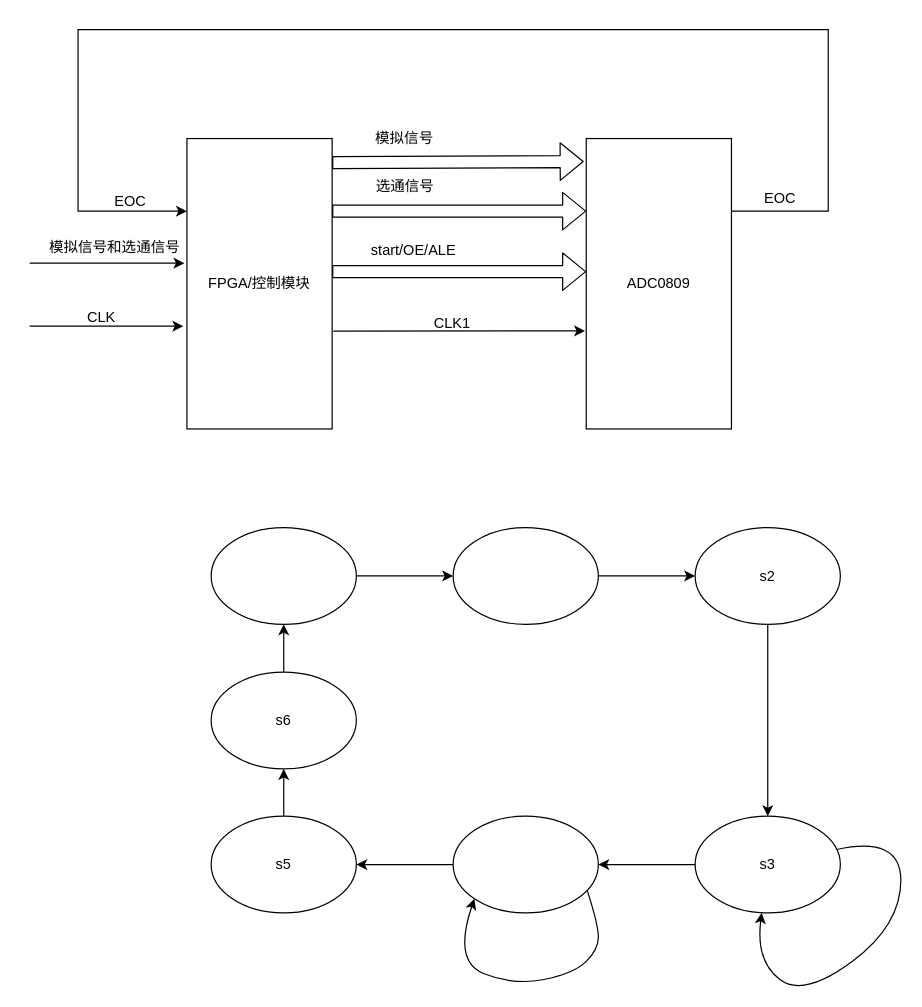
Some shapes in this 922 by 1007 pixel diagram are drawn without their labels. Each missing label, with the centre of its shape:
"s0" goes at point 283,575.
"s1" goes at point 525,575.
"s4" goes at point 525,864.
